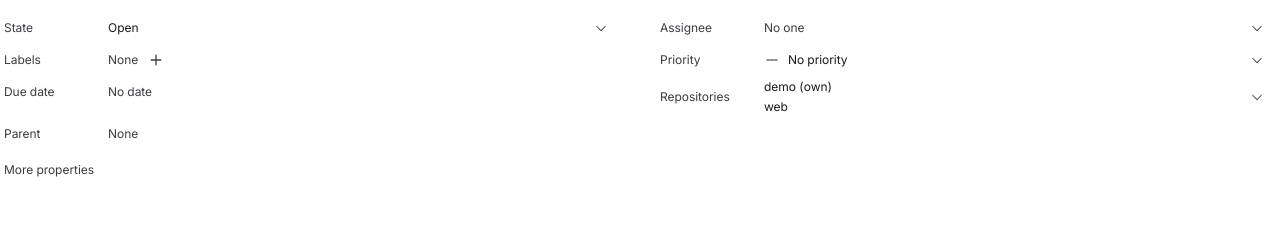
Scenario: the repositories of a card › says why the server refuses to take off a repository with an open change
The width and height of the screenshot is (1280, 234).
Press Enter in the button named "Repositories", box [758, 76, 1270, 118]
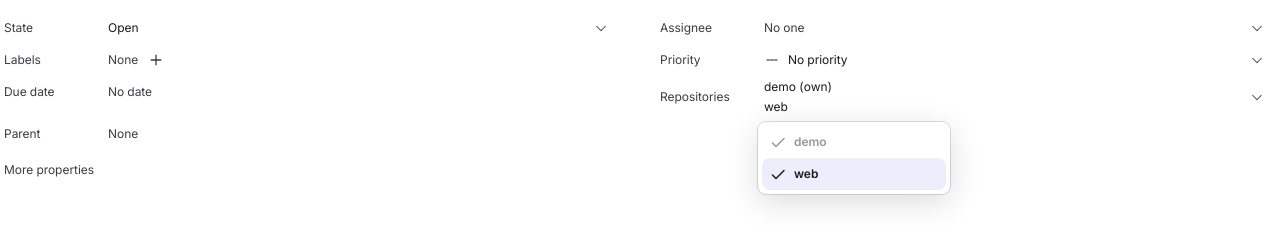
Click the menu item "web".
click(854, 174)  # box [762, 158, 946, 190]
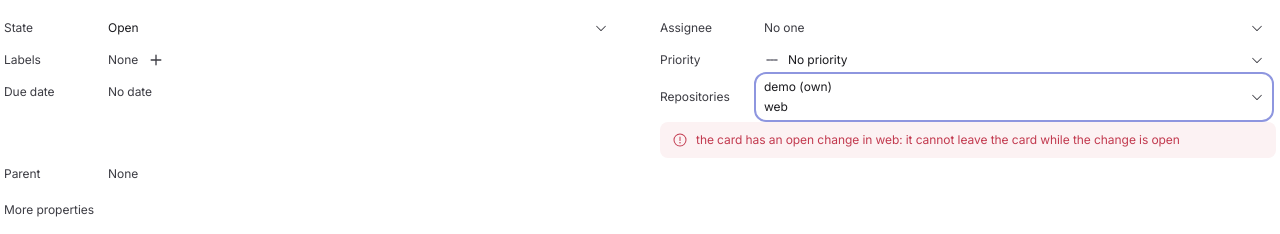
Now the text "the card has an open change in web: it cannot leave the card while the change is open" is shown, box [696, 132, 1180, 147]
